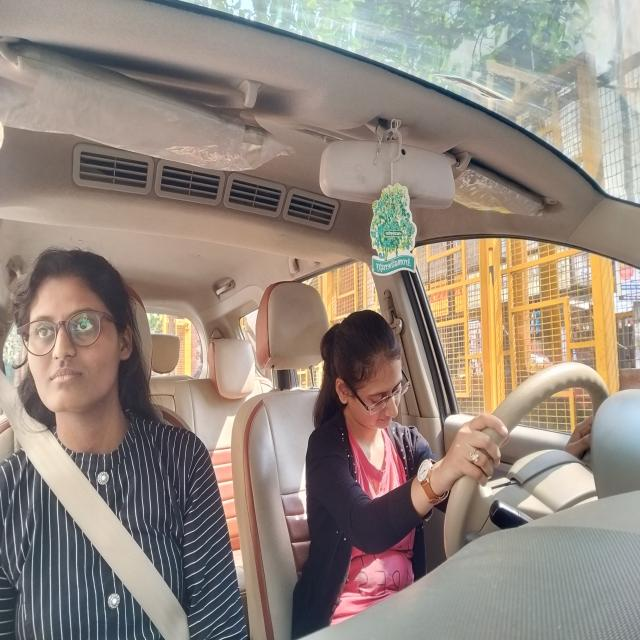drowsy: (328, 327, 409, 429)
person: (9, 238, 134, 408)
